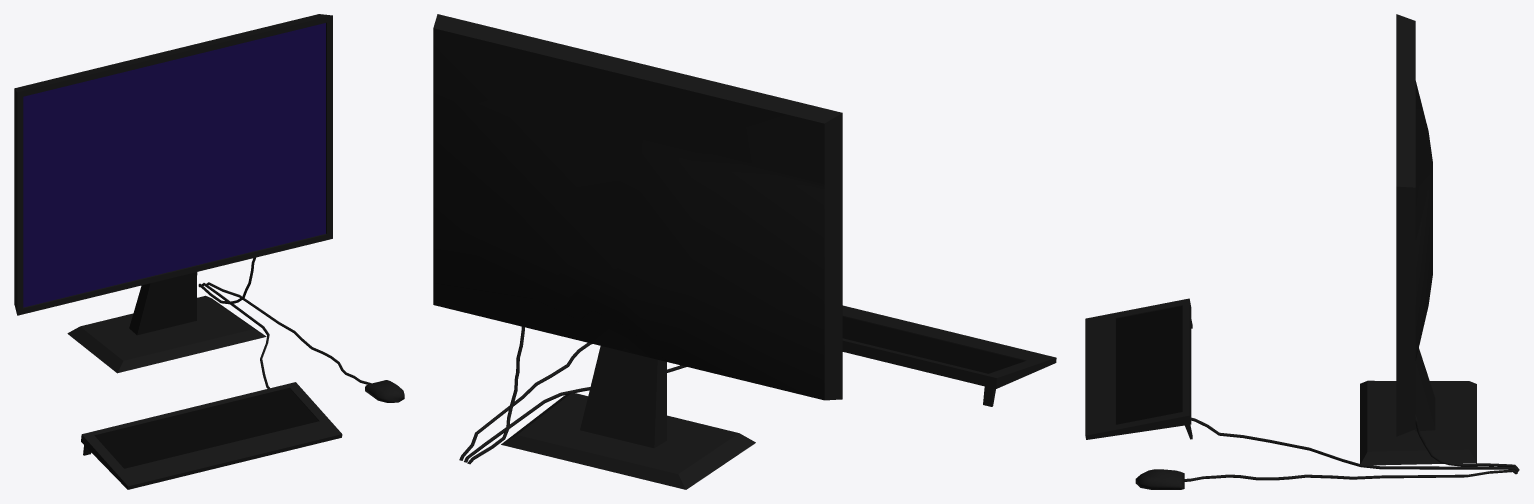
Rendered from Computer.fbx.
3 views of the same model, side by side, from view 1: azimuth 30°, elevation 25°; view 2: azimuth 150°, elevation 25°; view 3: azimuth 270°, elevation 25° (orthographic). The views are drawn at different scales.
Visible parts, largest first — view 1: Cube; view 2: Cube; view 3: Cube.
Part boxes in pixels (x1=…): Cube: x1=14, y1=14, x2=404, y2=489; Cube: x1=433, y1=14, x2=1056, y2=489; Cube: x1=1085, y1=14, x2=1519, y2=489.
Size of the model in its own units: 259 by 210 by 253.
